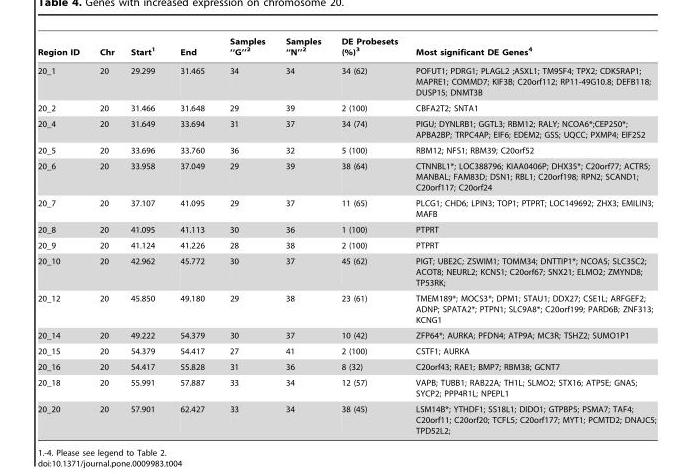table: (37, 36, 655, 434)
table column: (406, 36, 655, 434), (330, 36, 406, 434), (216, 36, 274, 434), (274, 36, 330, 434), (37, 36, 88, 434), (166, 36, 216, 434), (121, 36, 166, 434), (88, 36, 121, 434)
table column header: (37, 36, 655, 61)
table row: (37, 61, 655, 100), (37, 158, 655, 195), (37, 253, 655, 290), (37, 290, 655, 327), (37, 401, 655, 434), (37, 115, 655, 142), (37, 374, 655, 401), (37, 195, 655, 221), (37, 36, 655, 61), (37, 142, 655, 158), (37, 221, 655, 237), (37, 237, 655, 253), (37, 327, 655, 343), (37, 358, 655, 374), (37, 100, 655, 115), (37, 343, 655, 358)
